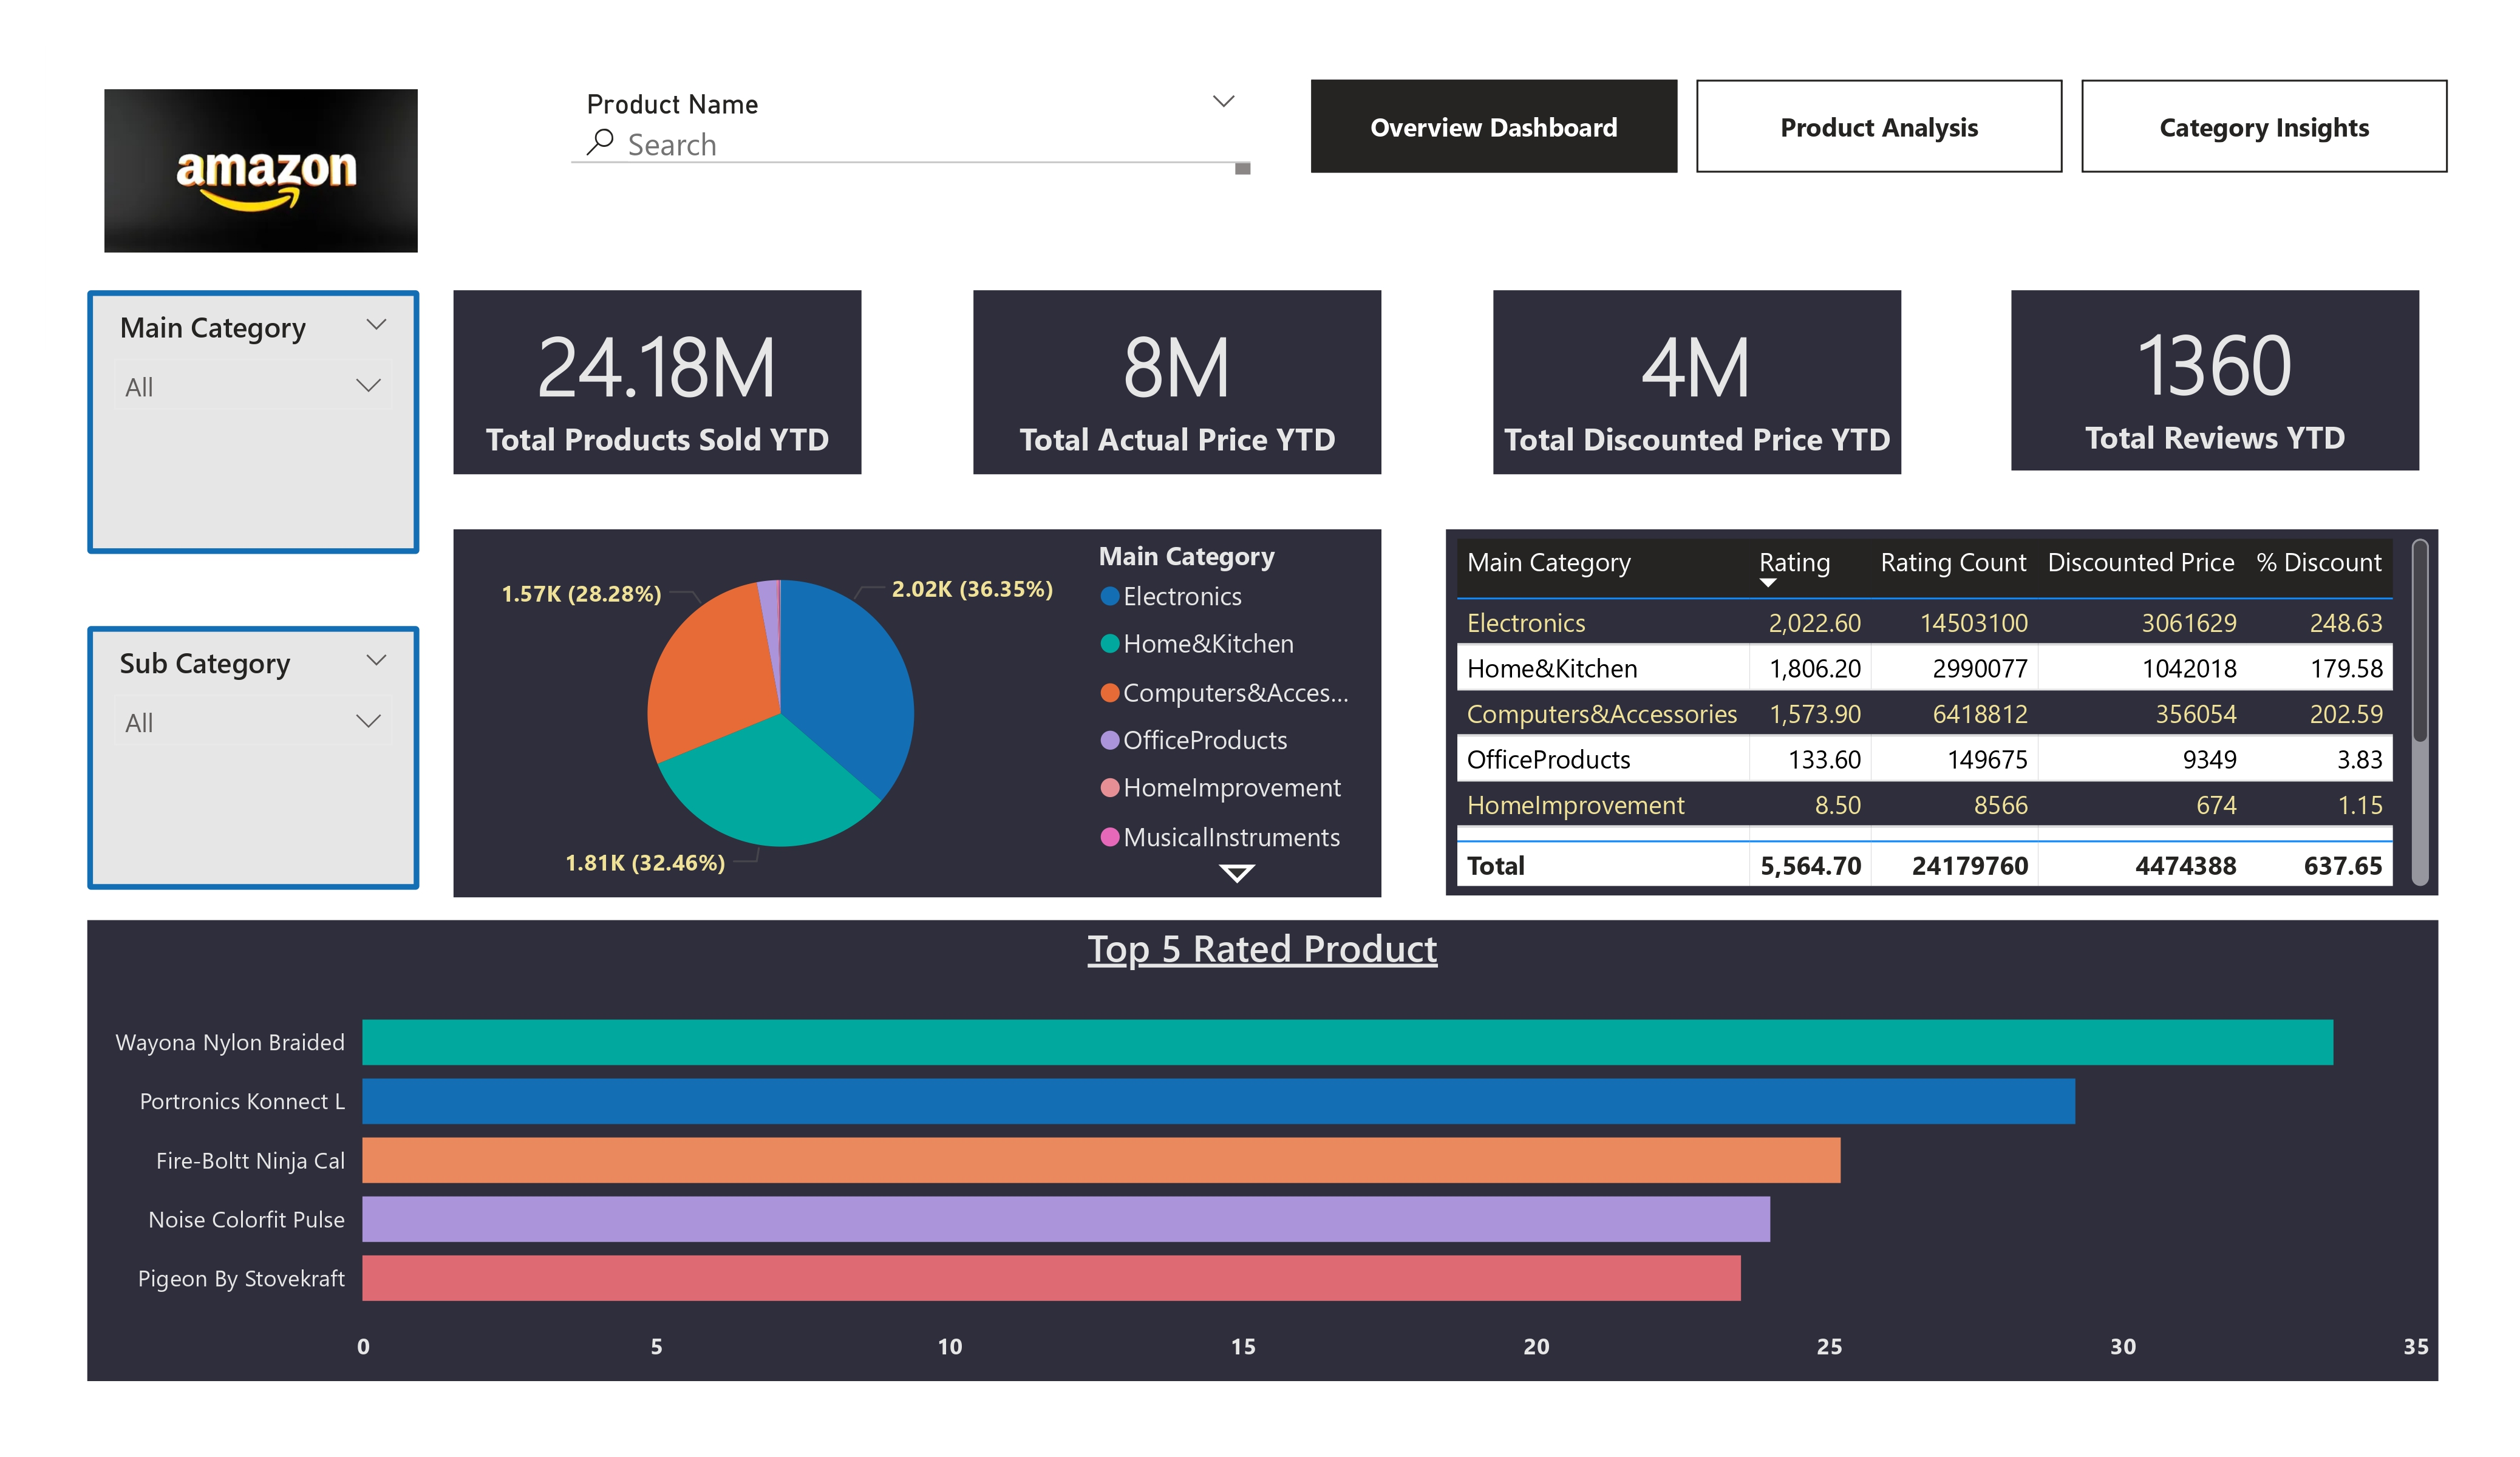

The page's visual inventory and layout, read from the dashboard file:
{"tool":"powerbi","page":{"name":"Overview Dashboard","canvas":[1280,720],"ordinal":0},"visuals":[{"type":"card","fields":{"Values":["Amazon Sales.Total Products Sold YTD"]},"box":[215,128.5,215,97.4],"z":1000},{"type":"card","fields":{"Values":["Amazon Sales.Total Actual Price YTD"]},"box":[488.8,128.5,215,97],"z":2000},{"type":"card","fields":{"Values":["Amazon Sales.Total Discounted Price YTD"]},"box":[762.6,128.5,215,97],"z":3000},{"type":"card","fields":{"Values":["Amazon Sales.Total Reviews YTD"]},"box":[1036.4,128.5,215,95.7],"z":4000},{"type":"barChart","title":"Top 5 Rated Product","fields":{"Category":["Amazon Sales.product_name"],"Y":["Sum(Amazon Sales.rating)"]},"box":[22,461,1239.5,242.9],"z":5000},{"type":"pieChart","fields":{"Category":["Amazon Sales.Main Category"],"Y":["Sum(Amazon Sales.rating)"]},"box":[215,255.3,488.8,193.2],"z":6000},{"type":"tableEx","fields":{"Values":["Amazon Sales.Main Category","Sum(Amazon Sales.rating)","Sum(Amazon Sales.rating_count)","Sum(Amazon Sales.discounted_price)","Sum(Amazon Sales.discount_percentage)"]},"box":[737.6,254.6,523.9,193.2],"z":7000},{"type":"slicer","fields":{"Values":["Amazon Sales.Main Category"]},"box":[21.8,129.3,174.7,139],"z":8000},{"type":"slicer","fields":{"Values":["Amazon Sales.Sub Category"]},"box":[21.8,305.7,174.7,139.4],"z":9000},{"type":"pageNavigator","box":[667.3,17.6,600,49.8],"z":10000},{"type":"slicer","fields":{"Values":["Amazon Sales.product_name"]},"box":[272.2,17.6,367.3,55.6],"z":11000},{"type":"image","box":[0,17.6,226.8,96.6],"z":11001}]}

Visuals, with their boxes in screenshot pixels (x1, y1, x2, y2):
card - Amazon Sales.Total Products Sold YTD: {"left": 449, "top": 287, "right": 851, "bottom": 469}
card - Amazon Sales.Total Actual Price YTD: {"left": 961, "top": 287, "right": 1364, "bottom": 468}
card - Amazon Sales.Total Discounted Price YTD: {"left": 1474, "top": 287, "right": 1877, "bottom": 468}
card - Amazon Sales.Total Reviews YTD: {"left": 1987, "top": 287, "right": 2389, "bottom": 466}
"Top 5 Rated Product" barChart: {"left": 87, "top": 909, "right": 2408, "bottom": 1364}
pieChart - Amazon Sales.Main Category x Sum(Amazon Sales.rating): {"left": 449, "top": 524, "right": 1364, "bottom": 886}
tableEx - Amazon Sales.Main Category x Sum(Amazon Sales.rating): {"left": 1427, "top": 523, "right": 2408, "bottom": 885}
slicer - Amazon Sales.Main Category: {"left": 87, "top": 288, "right": 414, "bottom": 548}
slicer - Amazon Sales.Sub Category: {"left": 87, "top": 618, "right": 414, "bottom": 879}
pageNavigator: {"left": 1296, "top": 79, "right": 2419, "bottom": 172}
slicer - Amazon Sales.product_name: {"left": 556, "top": 79, "right": 1244, "bottom": 183}
image: {"left": 46, "top": 79, "right": 471, "bottom": 260}
